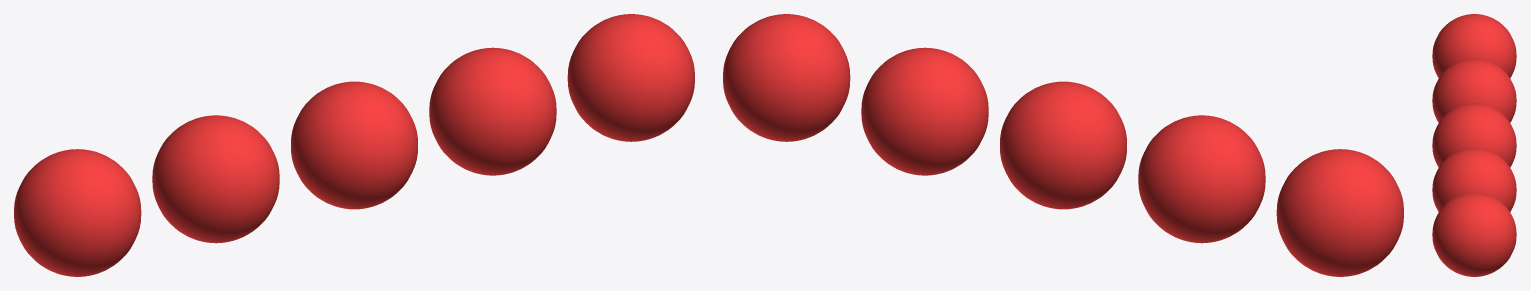
File: metallic-roughness.gltf
The picture shows the model from 3 angles, left to right: view 1: azimuth 30°, elevation 25°; view 2: azimuth 150°, elevation 25°; view 3: azimuth 270°, elevation 25°; orthographic projection. The views are drawn at different scales.
Parts seen in each view (by area): view 1: Sphere (×4), sphere; view 2: Sphere (×4), sphere; view 3: Sphere (×4), sphere.
Boxes of the visible parts, bbox=[...] form: Sphere (×4): bbox=[152, 14, 694, 243]; sphere: bbox=[14, 149, 141, 276]; Sphere (×4): bbox=[723, 14, 1265, 243]; sphere: bbox=[1276, 149, 1403, 276]; Sphere (×4): bbox=[1432, 58, 1516, 276]; sphere: bbox=[1432, 14, 1516, 77].
Size of the model in its own units: 12 by 2 by 1.99.
